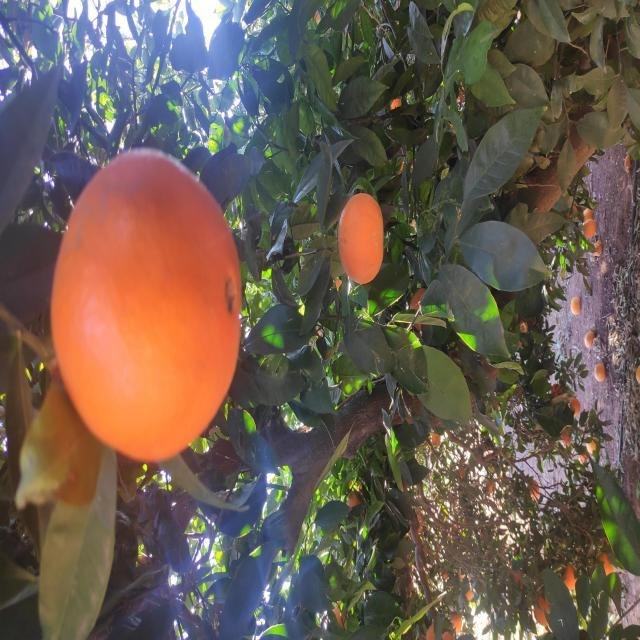Jeruk Sudah Matang: (178, 51, 494, 243), (352, 338, 452, 383), (310, 408, 353, 427), (59, 598, 98, 616), (16, 534, 44, 550), (3, 449, 35, 461), (51, 564, 78, 575), (403, 582, 423, 596), (138, 528, 160, 538), (417, 582, 434, 594), (242, 550, 258, 562), (187, 586, 204, 596), (193, 560, 210, 570), (226, 570, 242, 580), (193, 430, 208, 440), (174, 578, 188, 586)
